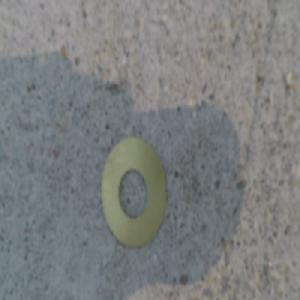Washer: (102, 135, 168, 246)
